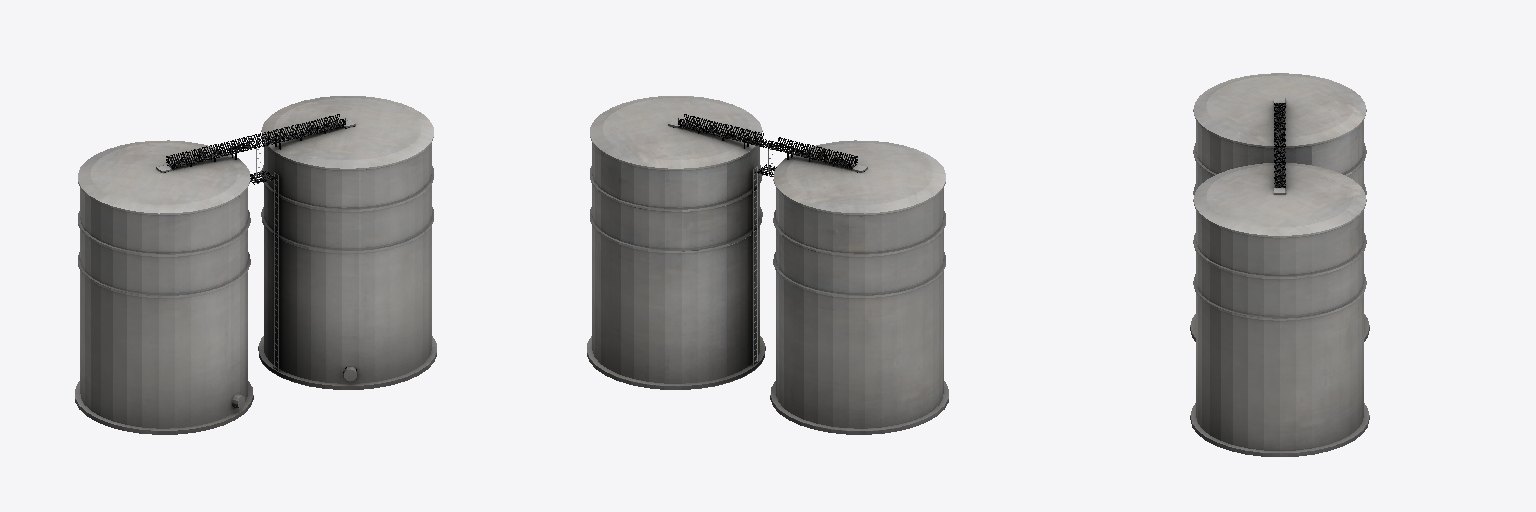
The picture shows the model from 3 angles: view 1: azimuth 30°, elevation 25°; view 2: azimuth 150°, elevation 25°; view 3: azimuth 270°, elevation 25°; orthographic projection.
Visible parts, largest first — view 1: 1_0750_nadrz02_Circle.003, 1_0250_nadrz02zabradli_Circle.005; view 2: 1_0750_nadrz02_Circle.003, 1_0250_nadrz02zabradli_Circle.005; view 3: 1_0750_nadrz02_Circle.003, 1_0250_nadrz02zabradli_Circle.005.
Boxes of the visible parts, box(x1,y1,x2,y2) form: 1_0750_nadrz02_Circle.003: box(75, 96, 436, 434); 1_0250_nadrz02zabradli_Circle.005: box(166, 114, 345, 370); 1_0750_nadrz02_Circle.003: box(587, 96, 948, 434); 1_0250_nadrz02zabradli_Circle.005: box(678, 114, 857, 364); 1_0750_nadrz02_Circle.003: box(1190, 73, 1369, 456); 1_0250_nadrz02zabradli_Circle.005: box(1274, 103, 1285, 187).
Size of the model in its own units: 40.73 by 27.27 by 18.65.
Materials: 3 (3 with a texture image).